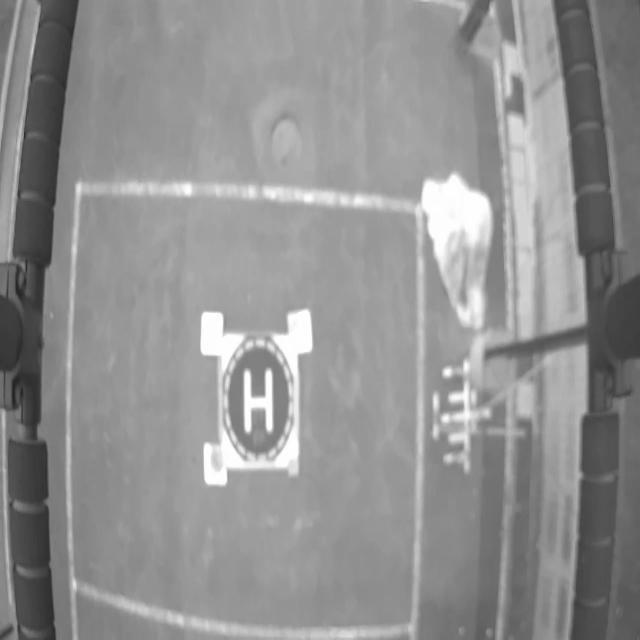Helipad: (243, 368, 273, 435)
